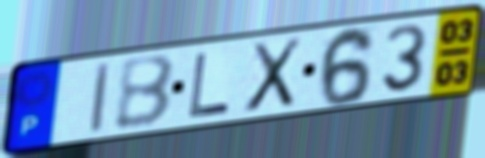3: (379, 22, 430, 93)
6: (317, 23, 379, 108)
B: (112, 52, 178, 133)
I: (87, 59, 113, 136)
L: (187, 50, 233, 119)
X: (241, 34, 305, 117)
